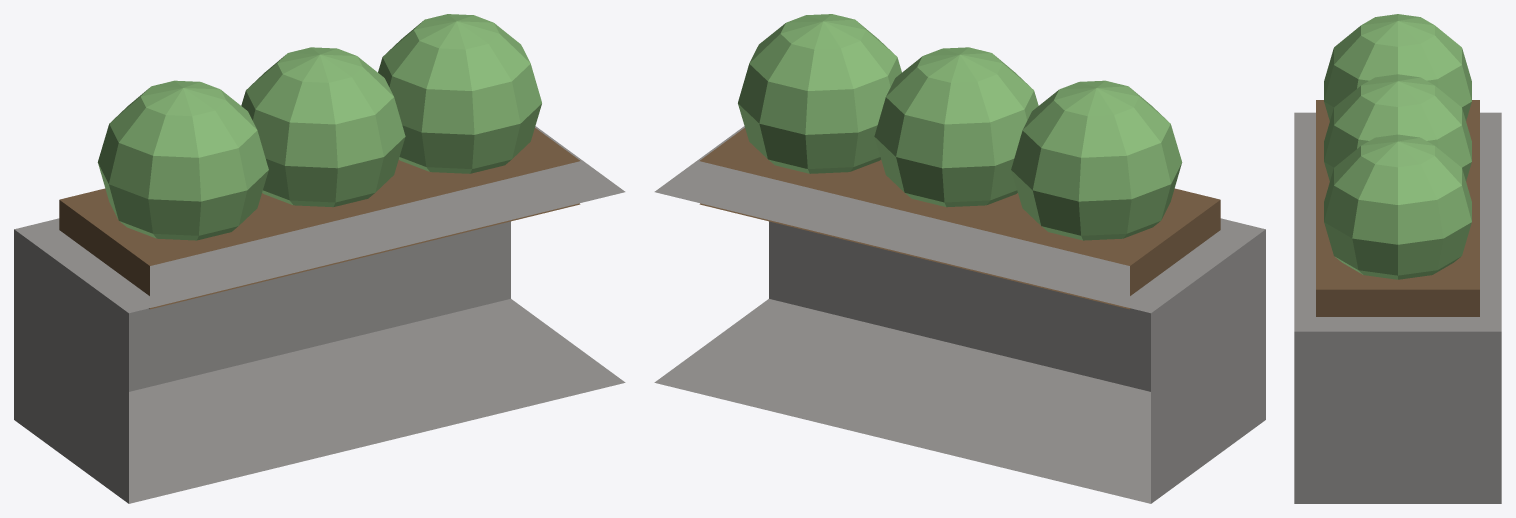
File: planterBox.glb
3 renders of one model, left to right at view 1: azimuth 30°, elevation 25°; view 2: azimuth 150°, elevation 25°; view 3: azimuth 270°, elevation 25°, orthographic. The views are drawn at different scales.
Visible parts, largest first — view 1: planterBox; view 2: planterBox; view 3: planterBox.
Boxes of the visible parts, <box> form: planterBox: <box>14,14,625,503</box>; planterBox: <box>654,14,1265,503</box>; planterBox: <box>1294,14,1501,503</box>.
Bounding box in the file's own units: 1.2 × 0.8 × 0.48.
